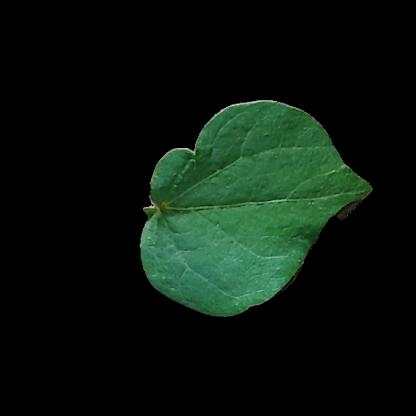healthy: (174, 163, 306, 269), (216, 112, 310, 161), (187, 264, 265, 299), (305, 163, 341, 215)
